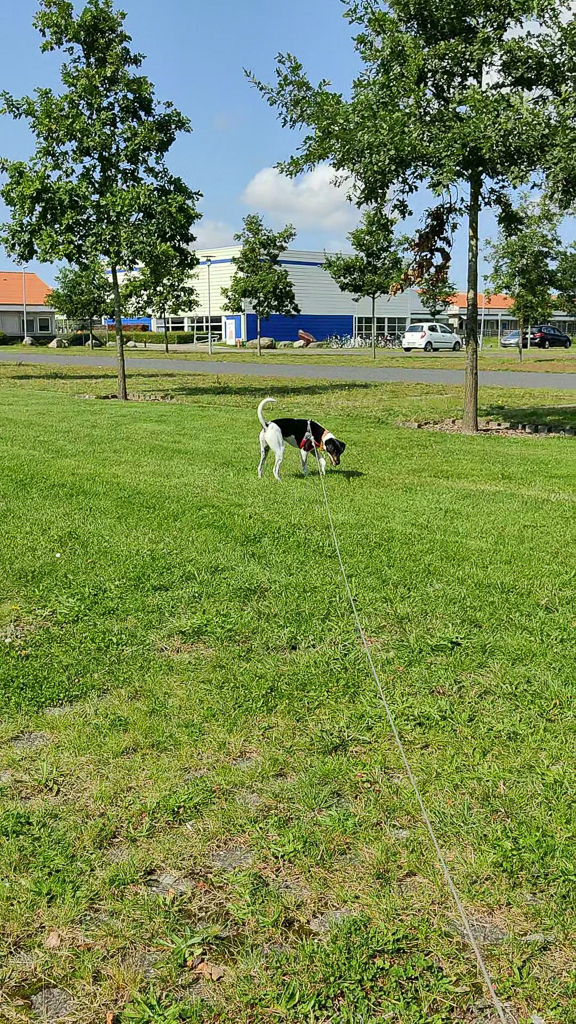Dog: (252, 393, 350, 488)
